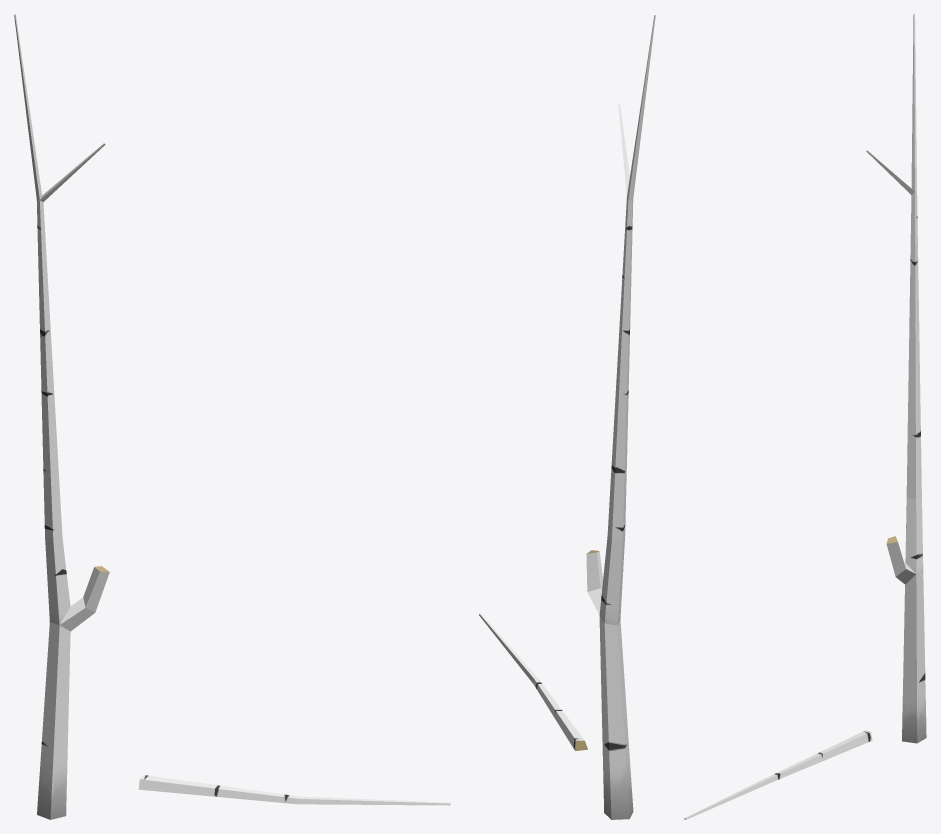
The model's file is Birch_Tree_NoLeaves_crk_m_01.fbx.
3 renders of one model, left to right at view 1: azimuth 30°, elevation 25°; view 2: azimuth 150°, elevation 25°; view 3: azimuth 270°, elevation 25°, orthographic. The views are drawn at different scales.
Parts seen in each view (by area): view 1: Birch_Tree_NoLeaves_crk_m_01; view 2: Birch_Tree_NoLeaves_crk_m_01; view 3: Birch_Tree_NoLeaves_crk_m_01.
Boxes of the visible parts, x1,y1,x2,y2 form: Birch_Tree_NoLeaves_crk_m_01: (14, 14, 450, 819); Birch_Tree_NoLeaves_crk_m_01: (479, 14, 655, 819); Birch_Tree_NoLeaves_crk_m_01: (684, 14, 926, 819).
Bounding box in the file's own units: 334 × 841 × 261.
